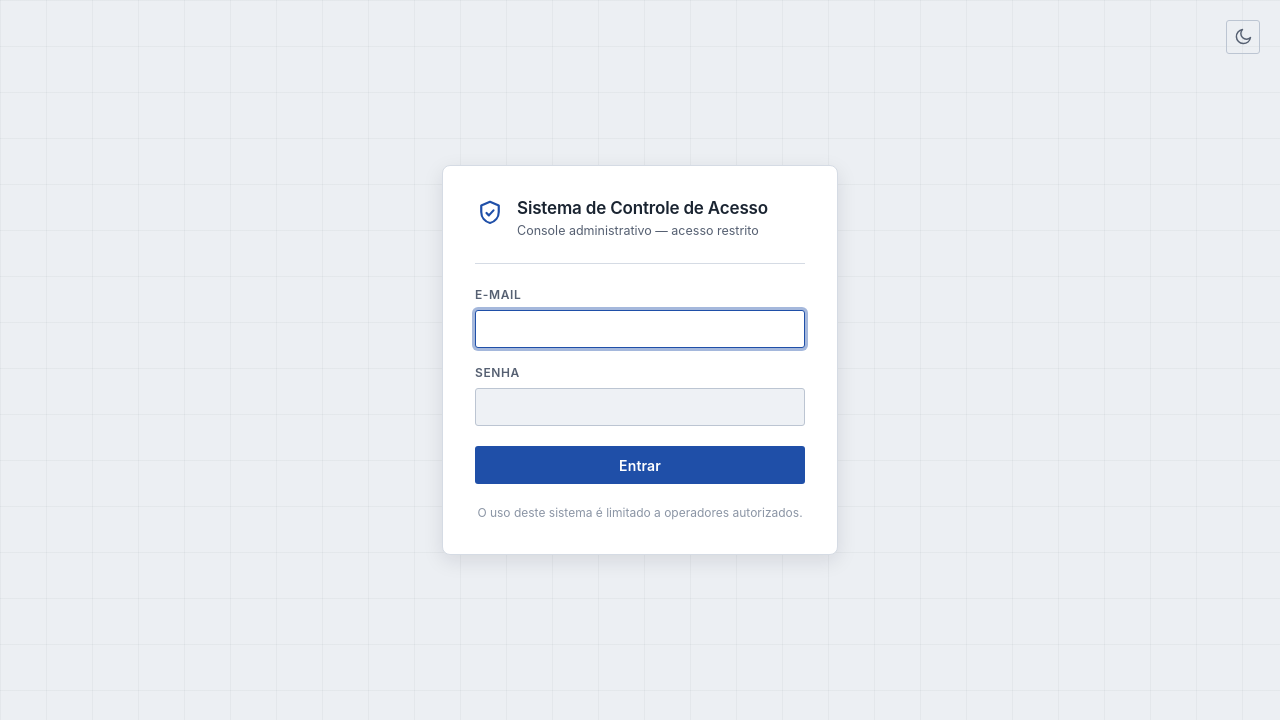
Test: LoginPage › mostra erro inesperado e não cria sessão quando a resposta vem sem token
This screenshot has width=1280, height=720.
Type "ana@example.test" into the field labelled "E-mail" at (640, 329), box [475, 310, 805, 348]
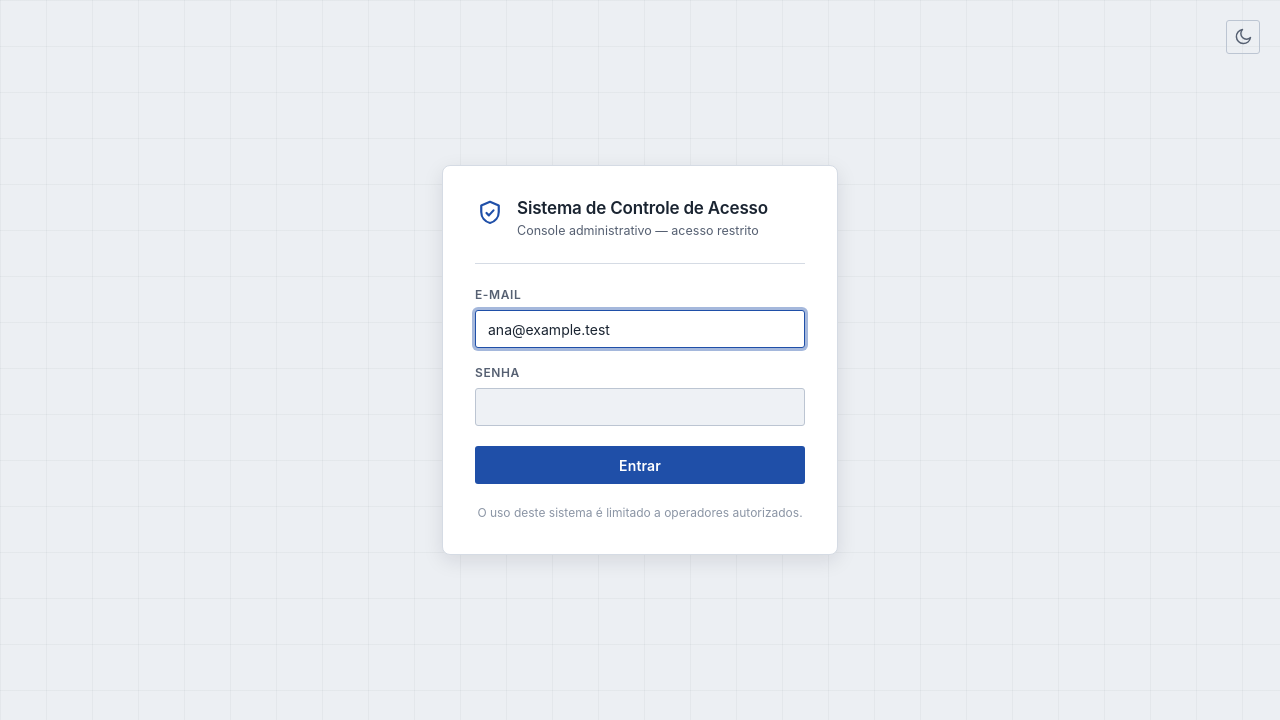
Type "senha-secreta" into the password field labelled "Senha" at (640, 407), box [475, 388, 805, 426]
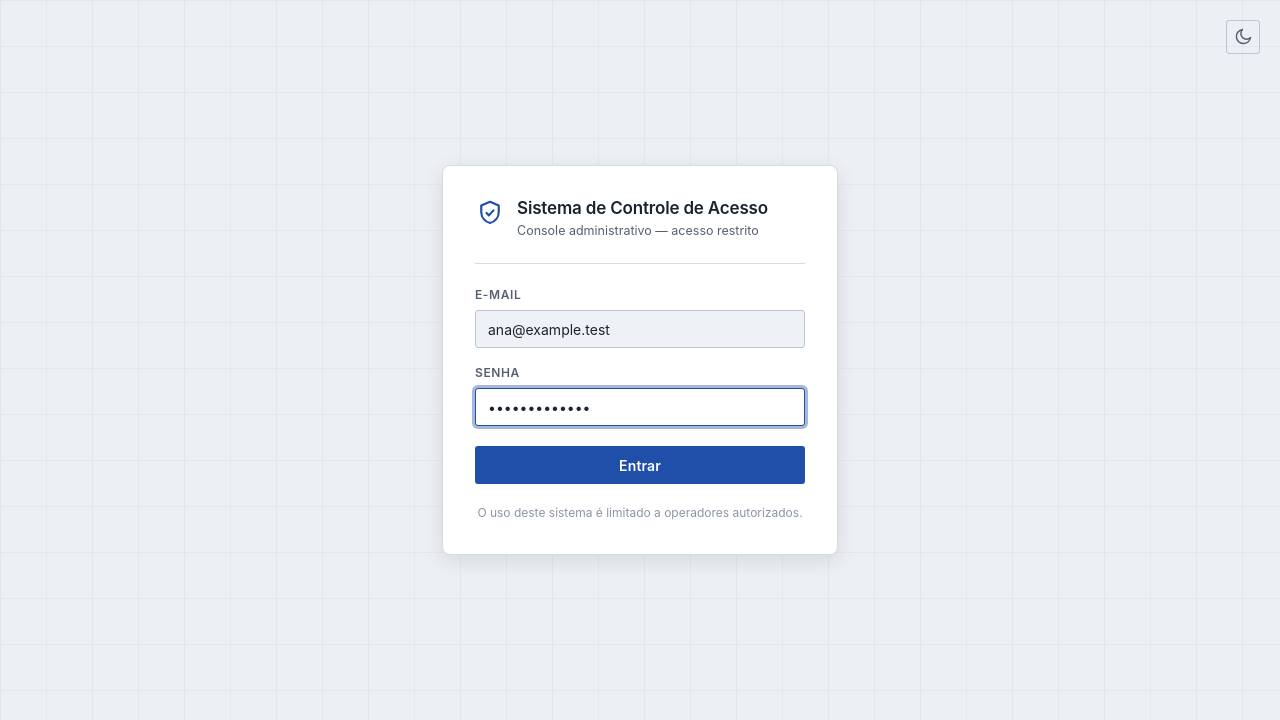
Click the button "Entrar" at (640, 465), box [475, 446, 805, 484]
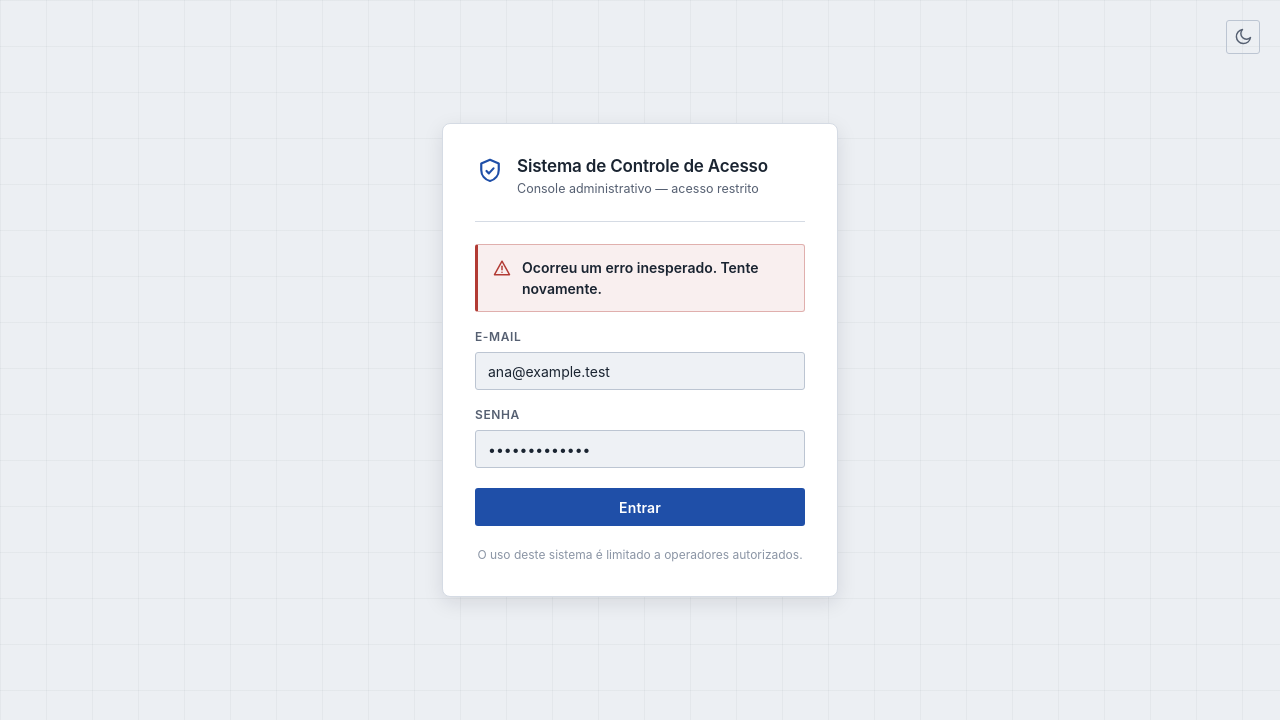
Check: the message reads "Ocorreu um erro inesperado. Tente novamente.", box [522, 259, 758, 297]
